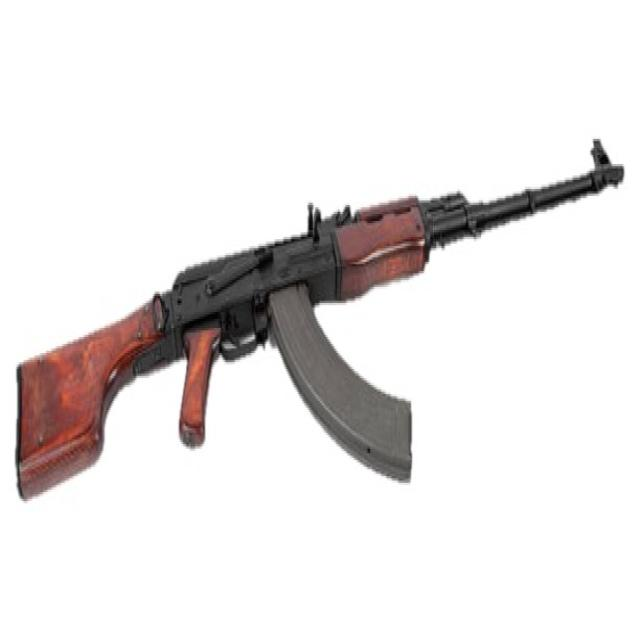rifle: (14, 128, 632, 524)
